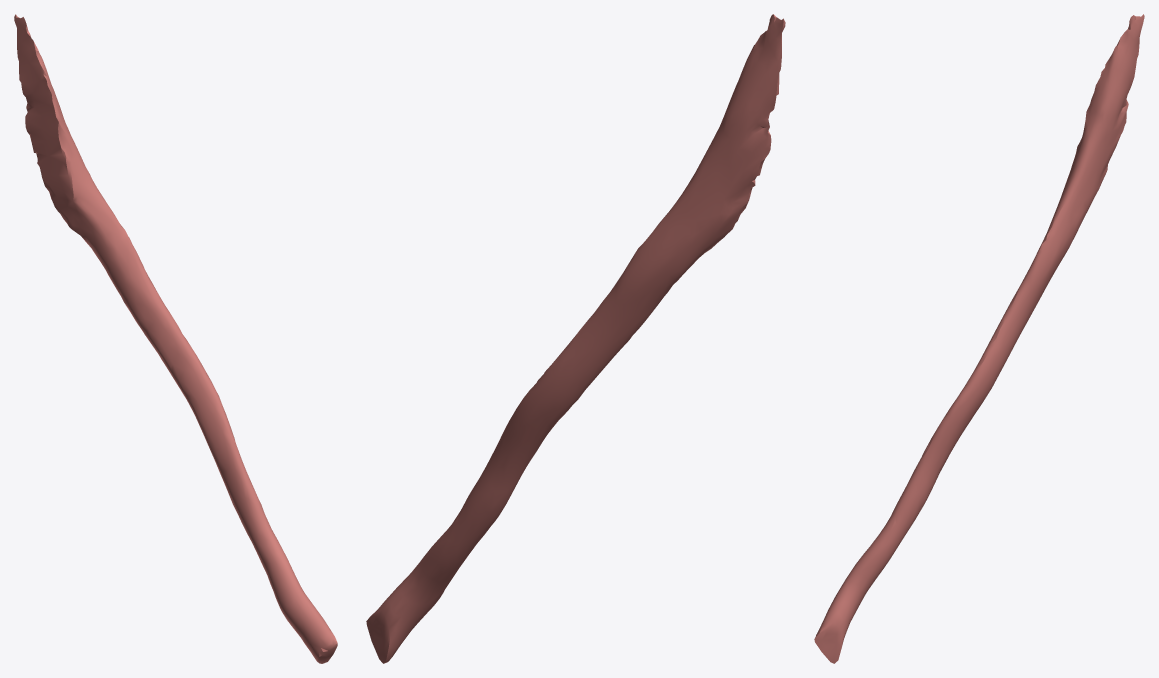
The model's file is fma49254_mm1972m.glb.
3 views of the same model, side by side, from view 1: azimuth 30°, elevation 25°; view 2: azimuth 210°, elevation 25°; view 3: azimuth 270°, elevation 25° (orthographic). The views are drawn at different scales.
Visible parts, largest first — view 1: FMA49254_MM1972M; view 2: FMA49254_MM1972M; view 3: FMA49254_MM1972M.
Boxes of the visible parts, x1,y1,x2,y2 form: FMA49254_MM1972M: (14,14,337,663); FMA49254_MM1972M: (366,14,785,663); FMA49254_MM1972M: (814,14,1144,663).
Bounding box in the file's own units: 0.0257 × 0.0887 × 0.0462.
